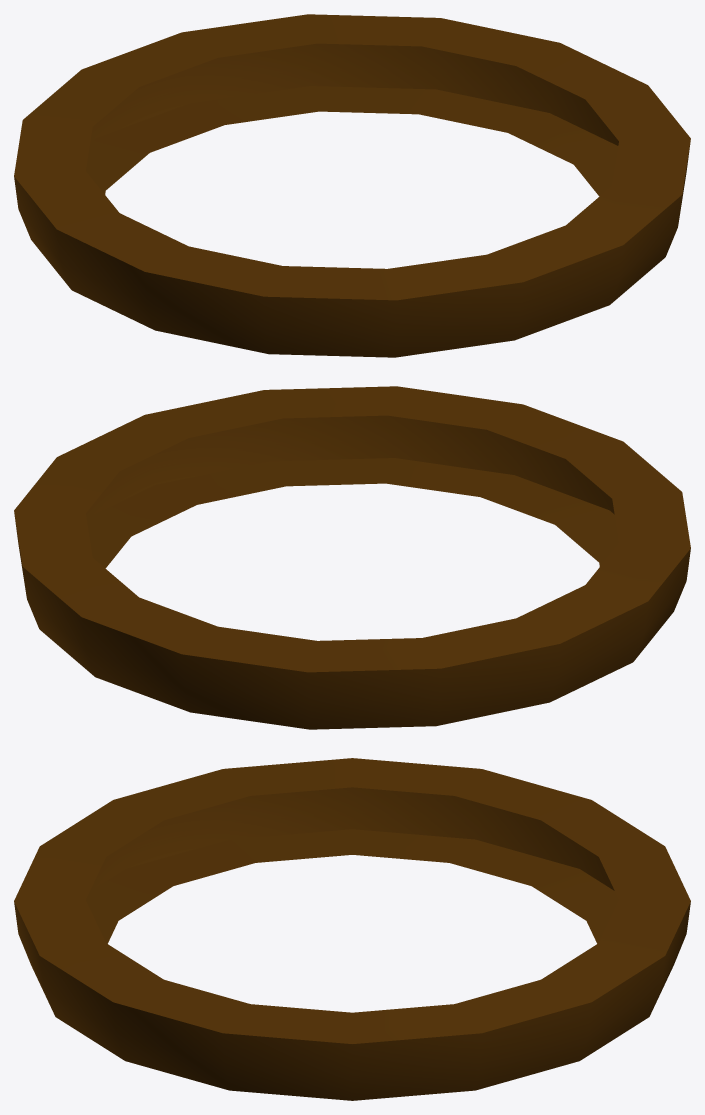
File: Body_Prop_Waist_03.fbx
3 views of the same model, one above another, from view 1: azimuth 30°, elevation 25°; view 2: azimuth 150°, elevation 25°; view 3: azimuth 270°, elevation 25° (orthographic).
Visible parts, largest first — view 1: Body_Prop_Waist_03; view 2: Body_Prop_Waist_03; view 3: Body_Prop_Waist_03.
Part boxes in pixels (x1=…): Body_Prop_Waist_03: x1=14, y1=14, x2=690, y2=357; Body_Prop_Waist_03: x1=14, y1=386, x2=690, y2=729; Body_Prop_Waist_03: x1=14, y1=758, x2=690, y2=1100.
Size of the model in its own units: 111 by 11.72 by 111.
